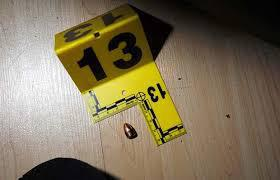Bullet: (122, 119, 139, 142)
